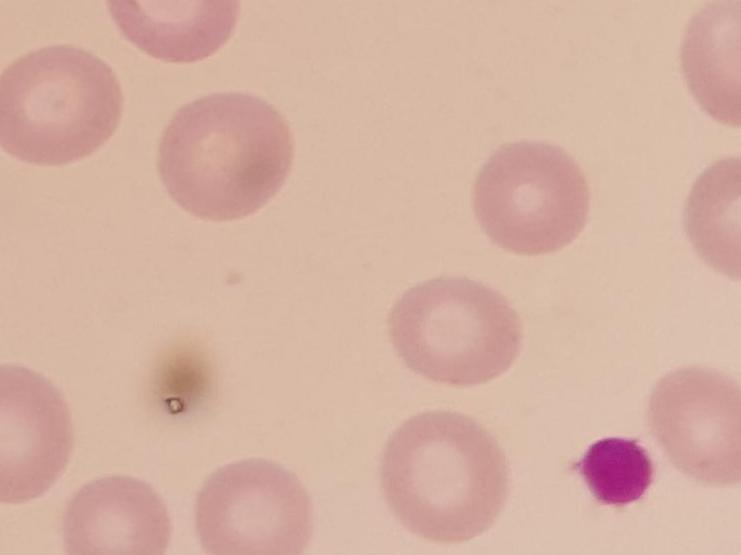Uninfected: (157, 92, 292, 218), (379, 412, 507, 540), (390, 275, 522, 385), (0, 44, 122, 163), (470, 141, 591, 255), (195, 459, 312, 554), (649, 367, 740, 483), (3, 367, 71, 499), (63, 477, 169, 554), (108, 1, 237, 63)
